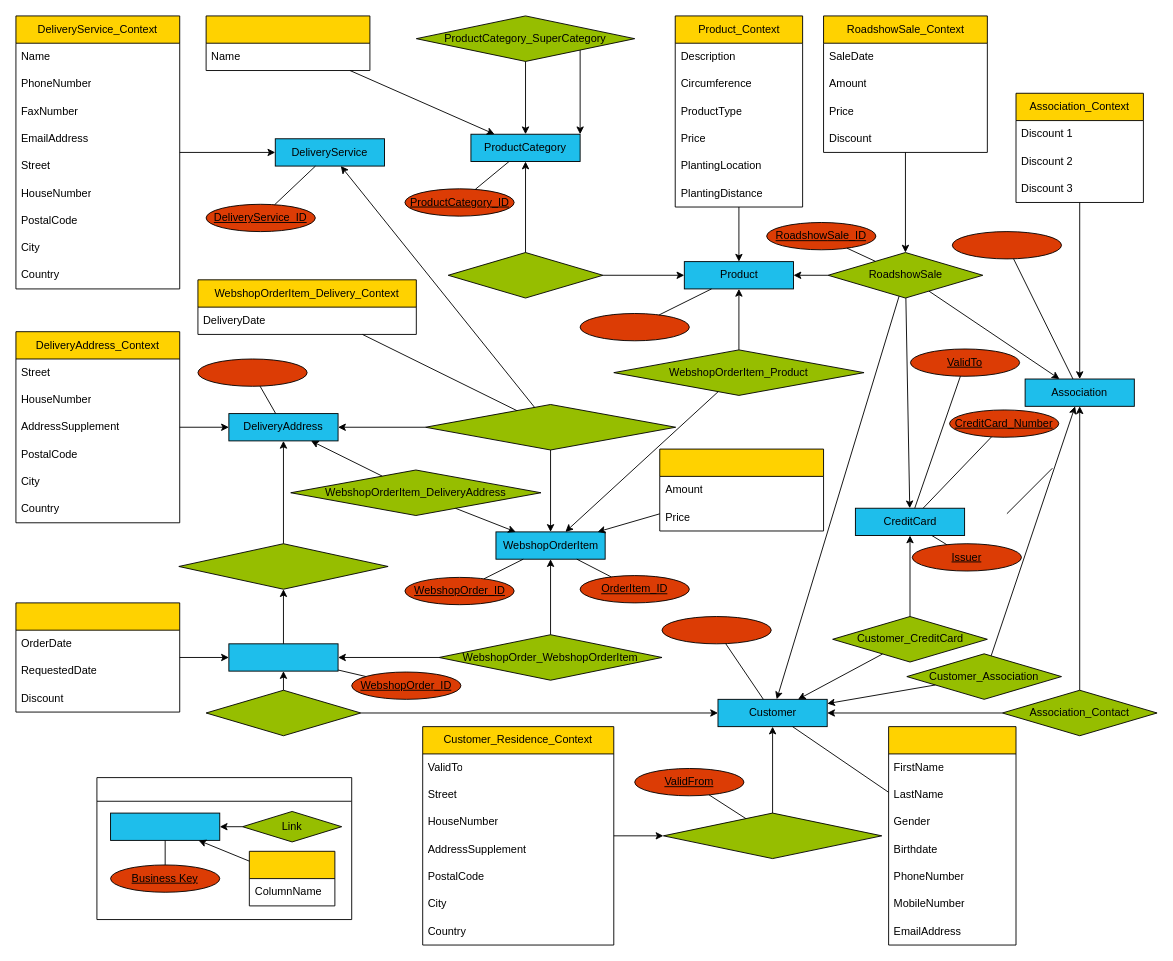
Image size: 1173x961. Some labels were removed from this diagram. Here are the shapes that lost their labels. From the top down, the box of each, then its label:
(205, 15, 370, 71): ProductCategory_Context
(951, 231, 1062, 259): Association_ID
(447, 252, 603, 298): Product_ProductCategory
(579, 313, 689, 341): Product_ID
(197, 358, 307, 386): DeliveryAddress_ID
(425, 404, 676, 450): WebshopOrderItem_Delivery
(659, 448, 824, 531): WebshopOrderItem_Context
(178, 543, 388, 589): WebshopOrder_DeliveryAddress
(661, 616, 771, 644): Customer_ID
(15, 602, 180, 712): WebshopOrder_Context
(228, 643, 338, 671): WebshopOrder
(205, 689, 361, 736): WebshopOrder_Customer
(110, 812, 220, 840): Hub
(662, 812, 882, 859): Customer_Residence
(888, 726, 1016, 945): Customer_Context
(96, 777, 352, 920): legend
(248, 850, 335, 906): Satellite
